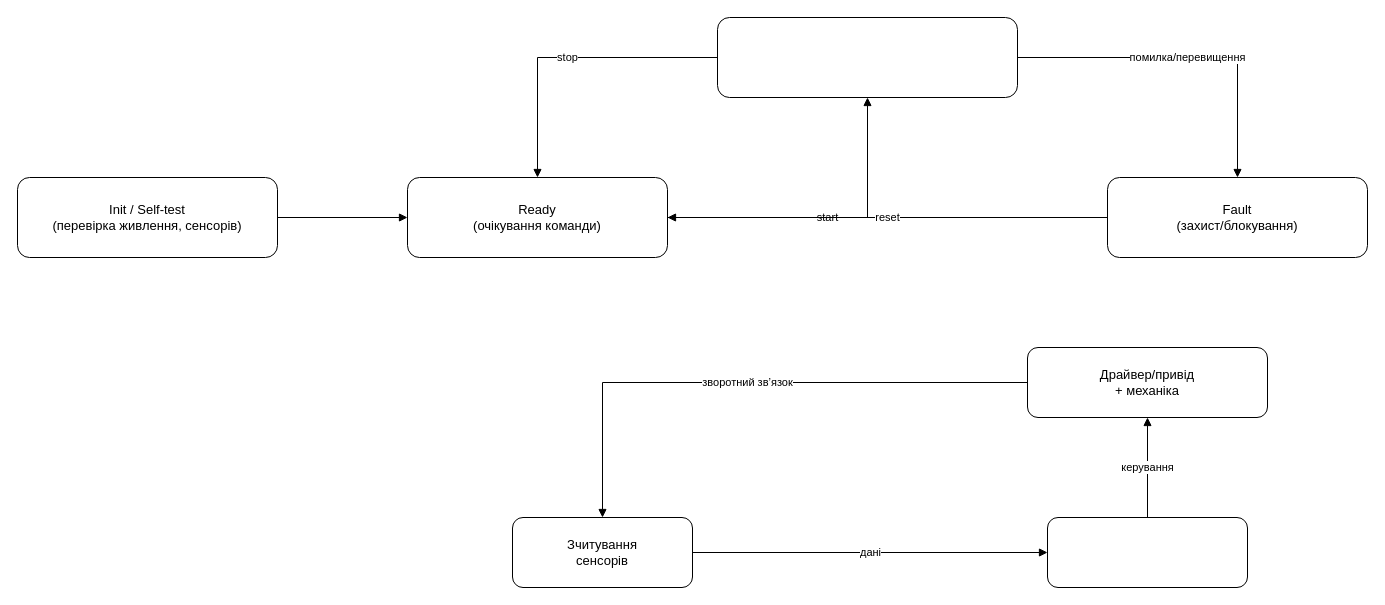
Image size: 1385x605. Some labels were removed from this diagram. Each missing label, with the centre of its shape:
Run (керування зворотним зв’язком): the point at 867,57
Регулятор (PID/логіка): the point at 1147,552
